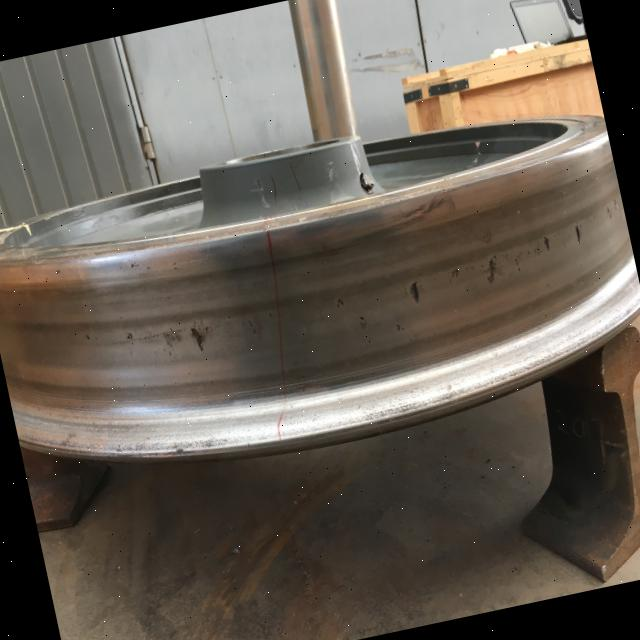Blue hole: (408, 279, 425, 306)
Peeling: (442, 222, 591, 296), (189, 323, 208, 352), (356, 313, 369, 328)
